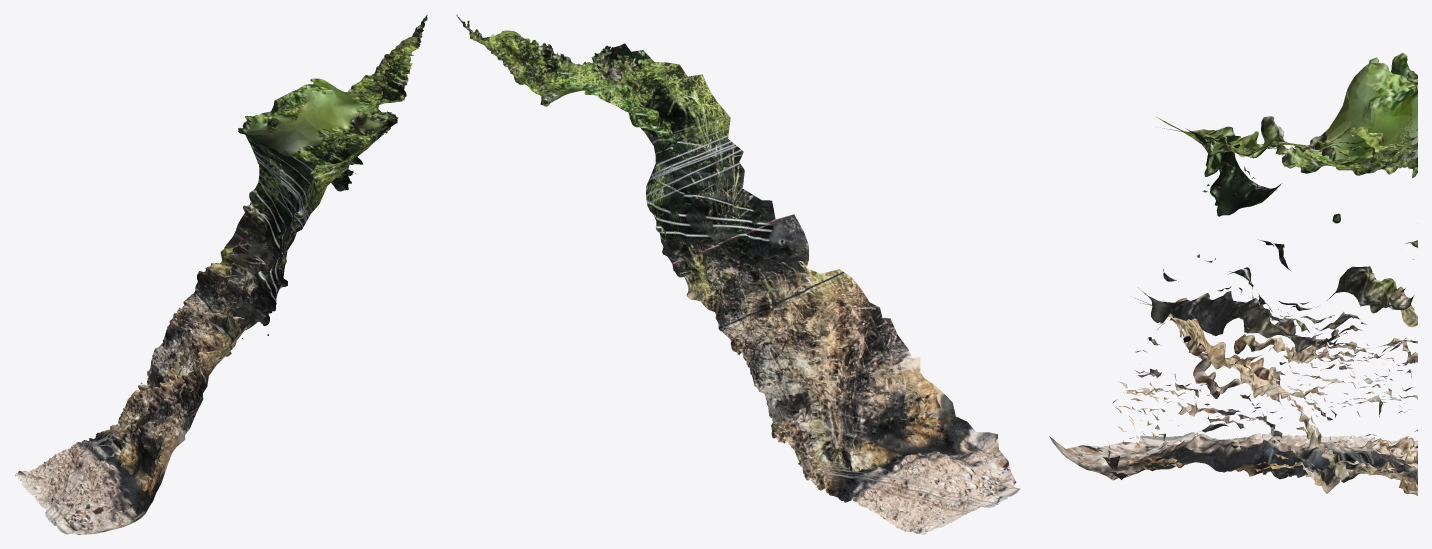
3 views of the same model, side by side, from view 1: azimuth 30°, elevation 25°; view 2: azimuth 150°, elevation 25°; view 3: azimuth 270°, elevation 25° (orthographic). The views are drawn at different scales.
Size of the model in its own units: 12.17 by 9.91 by 4.52.
1 material, 1 textured.
